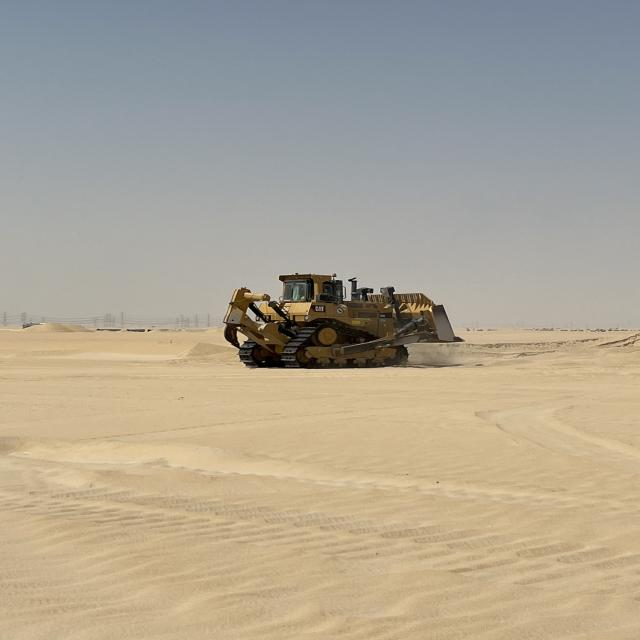bull_dozer/loader/grader: (218, 264, 466, 379)
